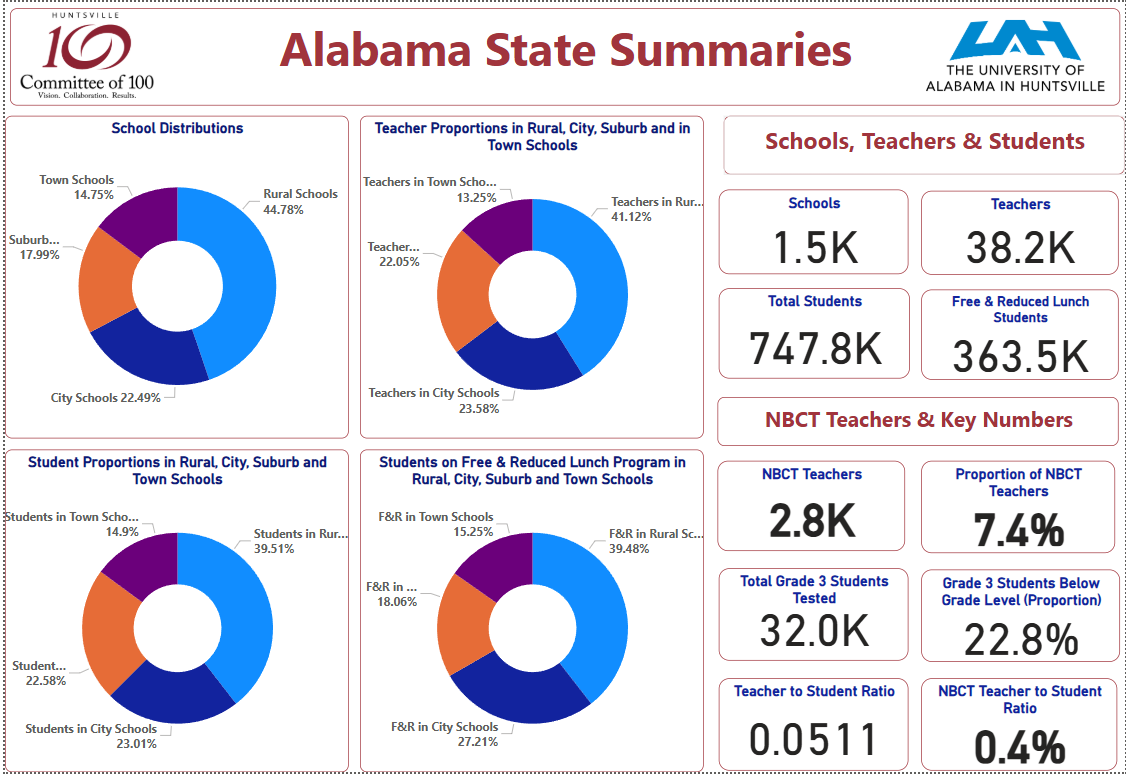

The dashboard page shown, as its layout file describes it:
{"tool":"powerbi","page":{"name":"AL Summaries","canvas":[1280,880],"ordinal":0},"visuals":[{"type":"donutChart","title":"School Distributions","fields":{"Y":["Sum(AL_comp Absolute Numbers.Total Rural Schools )","Sum(AL_comp Absolute Numbers.Total City Schools)","Sum(AL_comp Absolute Numbers.Total Suburb Schools)","Sum(AL_comp Absolute Numbers.Total Town Schools)"]},"box":[0,130.6,392.5,368.8],"z":0},{"type":"donutChart","title":"Teacher Proportions in Rural, City, Suburb and in Town Schools","fields":{"Y":["Sum(AL_comp Absolute Numbers.Total Teachers in Rural)","Sum(AL_comp Absolute Numbers.Total Teachers in City)","Sum(AL_comp Absolute Numbers.Total Teachers in Suburb)","Sum(AL_comp Absolute Numbers.Total Teachers in Town)"]},"box":[405.5,130.7,392.9,368.6],"z":1000},{"type":"donutChart","title":"Student Proportions in Rural, City, Suburb and Town Schools","fields":{"Y":["Sum(AL_comp Absolute Numbers.Total Students in Rural)","Sum(AL_comp Absolute Numbers.Total Students in City)","Sum(AL_comp Absolute Numbers.Total Students in Suburb)","Sum(AL_comp Absolute Numbers.Total Students in Town)"]},"box":[0,511.4,392.9,368.6],"z":2000},{"type":"donutChart","title":"Students on Free & Reduced Lunch Program in Rural, City, Suburb and Town Schools","fields":{"Y":["Sum(AL_comp Absolute Numbers.Total F&R in Rural)","Sum(AL_comp Absolute Numbers.Total F&R in City)","Sum(AL_comp Absolute Numbers.Total F&R in Suburb)","Sum(AL_comp Absolute Numbers.Total F&R in Town)"]},"box":[405.7,511.4,392.9,368.6],"z":3000},{"type":"card","title":"Schools","fields":{"Values":["Sum(AL_comp Absolute Numbers.Total Schools)"]},"box":[815.7,214.3,217.1,97.1],"z":4000},{"type":"card","title":"Total Students","fields":{"Values":["Sum(AL_comp Absolute Numbers.Total Students)"]},"box":[816.4,327.6,218.6,102.9],"z":5000},{"type":"card","title":"Teachers","fields":{"Values":["Sum(AL_comp Absolute Numbers.Total Teachers)"]},"box":[1047.6,215.2,225.7,95.7],"z":6000},{"type":"card","title":"NBCT Teachers","fields":{"Values":["Sum(AL_comp Absolute Numbers.NBCT Teachers)"]},"box":[815,524.8,214.3,102.9],"z":7000},{"type":"card","title":"Free & Reduced Lunch Students","fields":{"Values":["Sum(AL_comp Absolute Numbers.Total F&R Lunch Students)"]},"box":[1047.9,329.1,225.7,102.9],"z":8000},{"type":"card","title":"Total Grade 3 Students Tested","fields":{"Values":["Sum(AL_comp Absolute Numbers.Grade 3 Students Tested)"]},"box":[816.4,647.6,217.1,105.7],"z":9000},{"type":"card","title":"Grade 3 Students Below Grade Level (Proportion)","fields":{"Values":["Sum(Proportions Comp.Percentage of County's Grade 3 Students Below Grade Level)"]},"box":[1047.9,649.1,227.1,105.7],"z":10000},{"type":"card","title":"Proportion of NBCT Teachers","fields":{"Values":["Sum(Proportions Comp.NBCT to Teacher Ratio)"]},"box":[1047.9,524.8,221.4,105.7],"z":11000},{"type":"card","title":"NBCT Teacher to Student Ratio","fields":{"Values":["Sum(Proportions Comp.NBCT Teacher to Student Ratio)"]},"box":[1047.9,773.4,224.3,105.7],"z":12000},{"type":"card","title":"Teacher to Student Ratio","fields":{"Values":["Sum(Proportions Comp.Teacher to Student Ratio)"]},"box":[816.4,773.4,217.1,105.7],"z":13000},{"type":"textbox","box":[821.4,130,458.6,67.1],"z":14000},{"type":"textbox","box":[815,450.7,458.6,55.7],"z":15000},{"type":"textbox","box":[5.7,7.1,1268.6,111.4],"z":16000},{"type":"image","box":[5.7,7.1,175.7,107.1],"z":17000,"group":"g1"},{"type":"image","box":[1028.6,15.7,251.4,91.4],"z":18000,"group":"g1"},{"type":"group","id":"g1","title":"Group 1","box":[5.7,7.1,1274.3,107.1],"z":18001}]}

Visuals, with their boxes in screenshot pixels (x1, y1, x2, y2), scaled from the page's 1280x880 canvas onto the 1126x774 screenshot:
"School Distributions" donutChart: (x1=0, y1=115, x2=345, y2=439)
"Teacher Proportions in Rural, City, Suburb and in Town Schools" donutChart: (x1=357, y1=115, x2=702, y2=439)
"Student Proportions in Rural, City, Suburb and Town Schools" donutChart: (x1=0, y1=450, x2=346, y2=773)
"Students on Free & Reduced Lunch Program in Rural, City, Suburb and Town Schools" donutChart: (x1=357, y1=450, x2=703, y2=773)
"Schools" card: (x1=718, y1=188, x2=909, y2=274)
"Total Students" card: (x1=718, y1=288, x2=910, y2=379)
"Teachers" card: (x1=922, y1=189, x2=1120, y2=273)
"NBCT Teachers" card: (x1=717, y1=462, x2=905, y2=552)
"Free & Reduced Lunch Students" card: (x1=922, y1=289, x2=1120, y2=380)
"Total Grade 3 Students Tested" card: (x1=718, y1=570, x2=909, y2=663)
"Grade 3 Students Below Grade Level (Proportion)" card: (x1=922, y1=571, x2=1122, y2=664)
"Proportion of NBCT Teachers" card: (x1=922, y1=462, x2=1117, y2=555)
"NBCT Teacher to Student Ratio" card: (x1=922, y1=680, x2=1119, y2=773)
"Teacher to Student Ratio" card: (x1=718, y1=680, x2=909, y2=773)
textbox: (x1=723, y1=114, x2=1125, y2=173)
textbox: (x1=717, y1=396, x2=1120, y2=445)
textbox: (x1=5, y1=6, x2=1121, y2=104)
image: (x1=5, y1=6, x2=160, y2=100)
image: (x1=905, y1=14, x2=1125, y2=94)
"Group 1" group: (x1=5, y1=6, x2=1125, y2=100)
